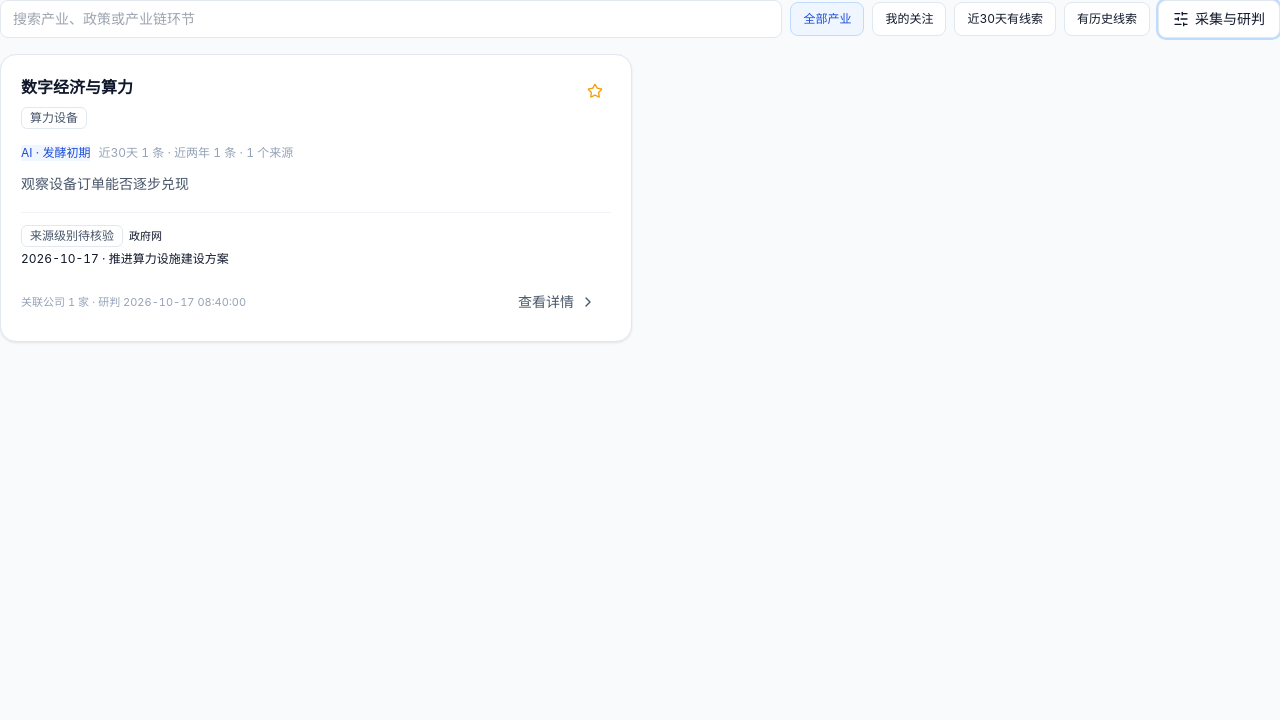
Test: daily policy research board › retains unclassified policy links without pretending they are completed industry reviews
This screenshot has width=1280, height=720.
Expected: the text "待归类政策" is not shown
What coordinates should you click on to do the following:
click the button "采集与研判"
I would click on:
 (1219, 19)
Its box is [1158,0,1279,38].
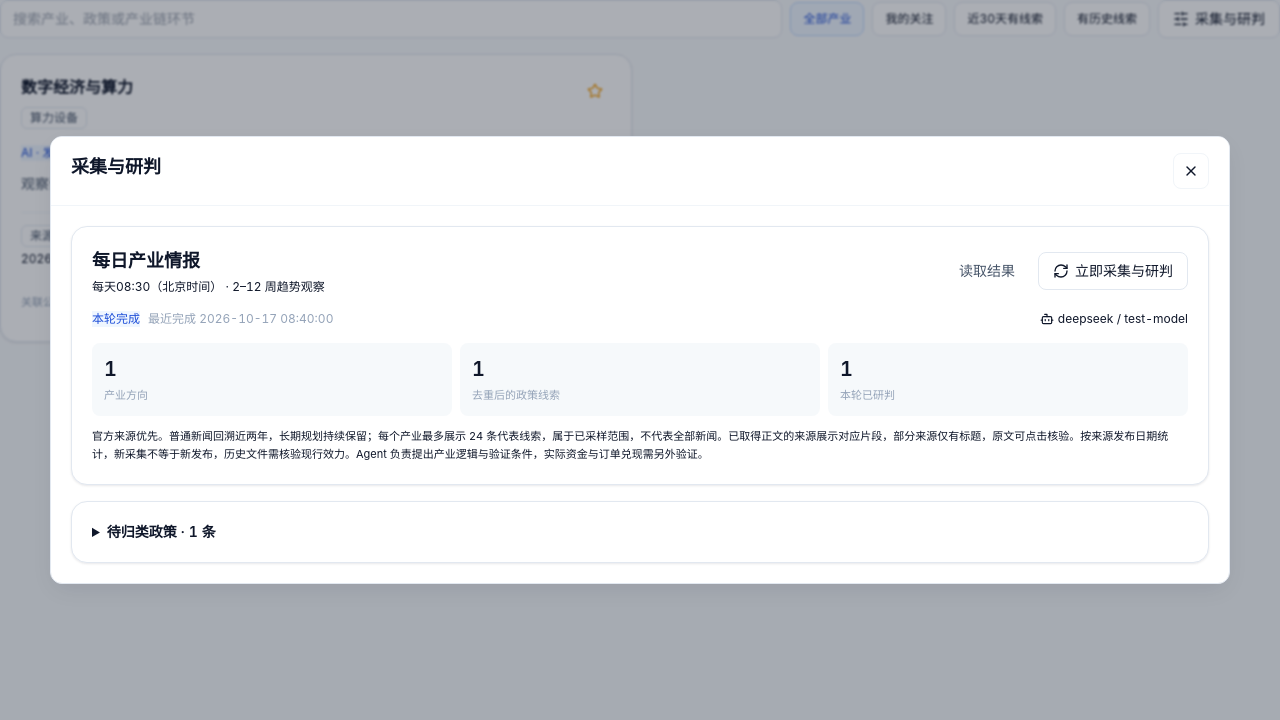
Result: the dialog shows "待归类政策 · 1 条" at [50,136,1230,584]
